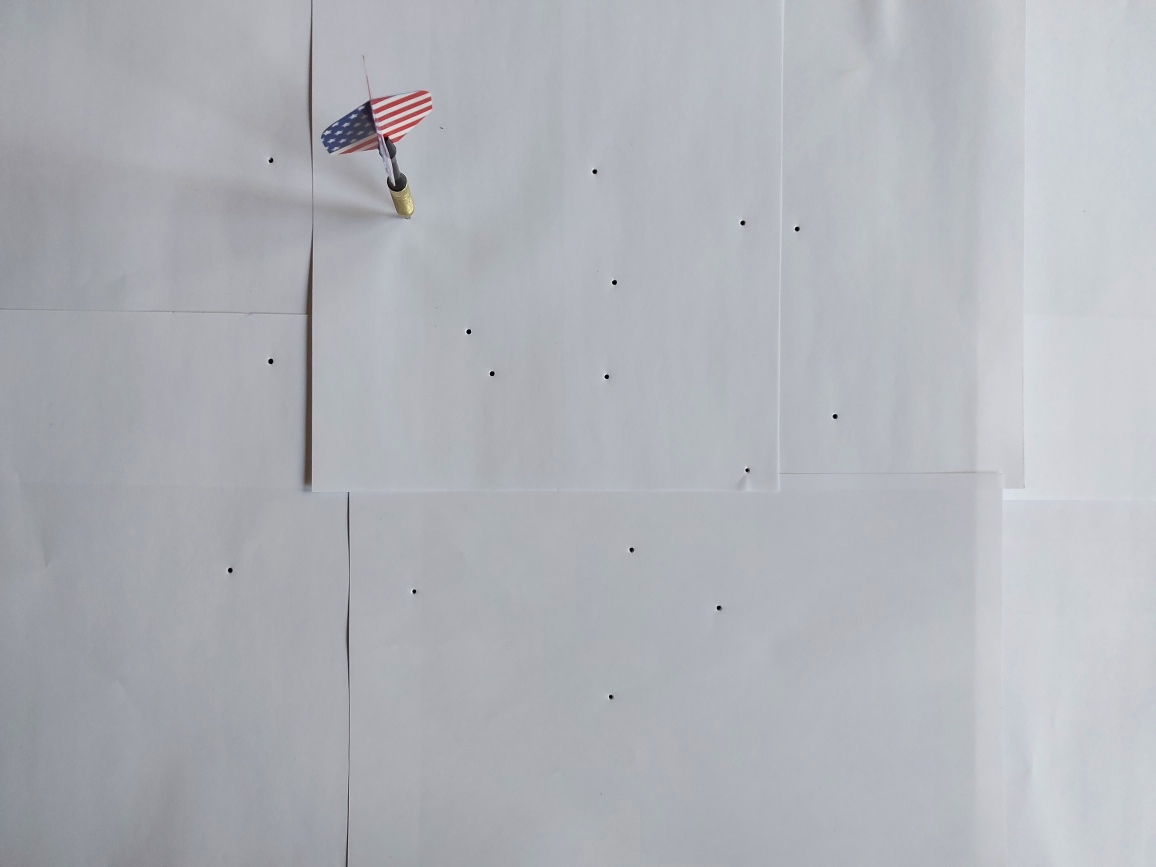Dart: (309, 47, 448, 231)
